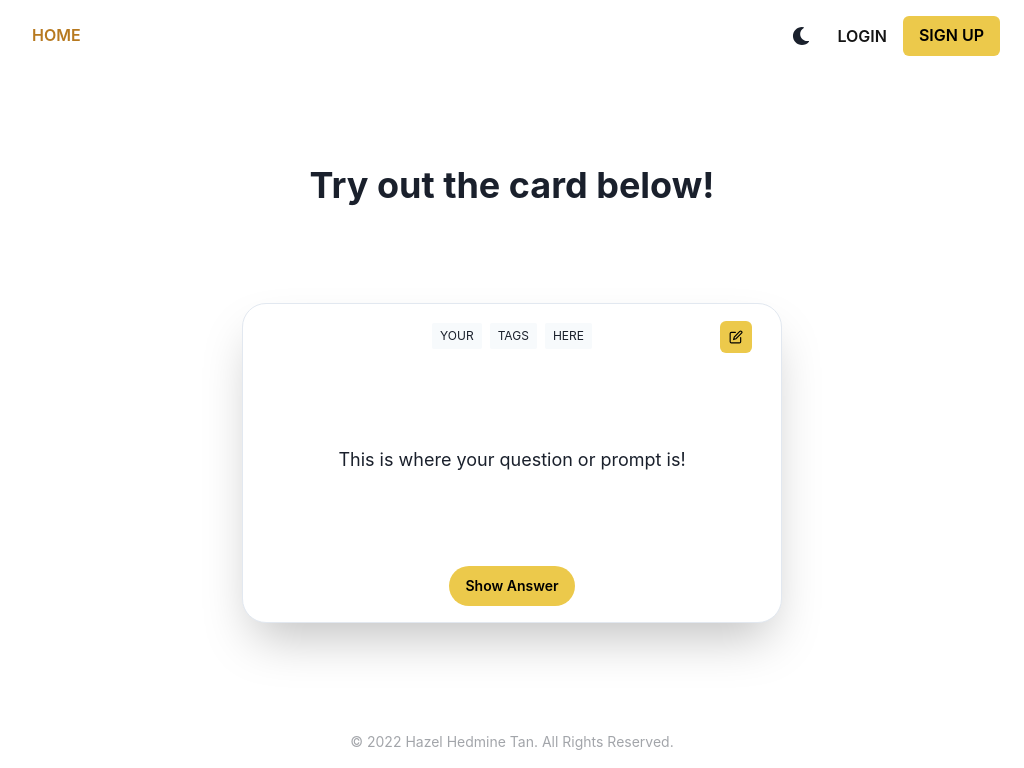
Note app › user cannot sign up with missing fields
Click the button "SIGN UP": (952, 36) [903,16,1000,56]
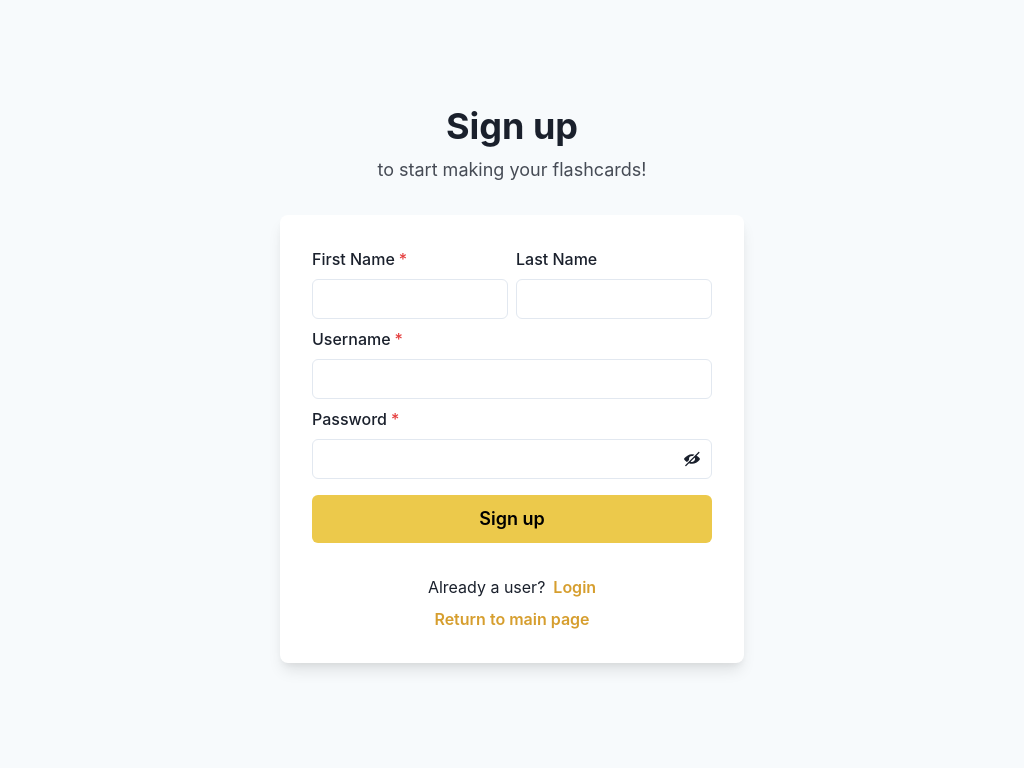
Click the button with id "signUpButton": (512, 519) [312,495,712,543]
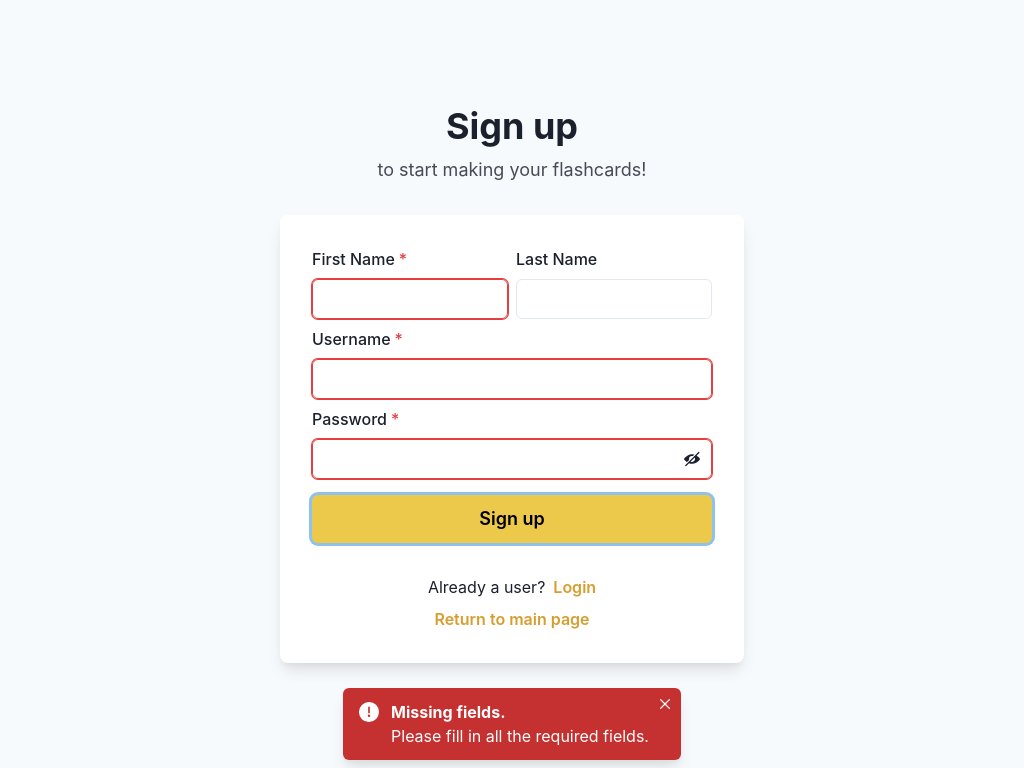
Expected: the text "Missing fields." is shown, [391,702,506,722]
